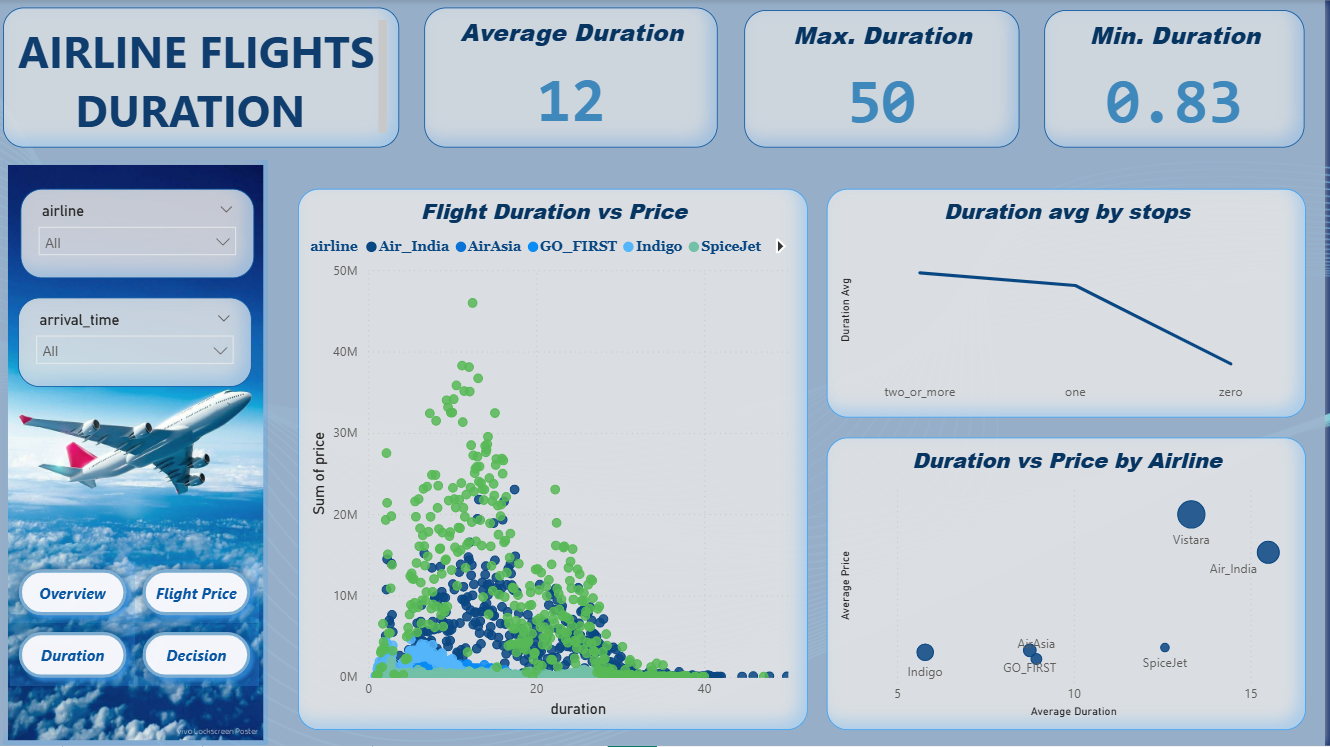

What the dashboard file says about the page in this screenshot:
{"tool":"powerbi","page":{"name":"Duration Analysis","canvas":[1280,720],"ordinal":2},"visuals":[{"type":"card","title":"Min. Duration","fields":{"Values":["Measures (2).Min Duration"]},"box":[1009.8,9.7,250.9,132.7],"z":0},{"type":"card","title":"Max. Duration","fields":{"Values":["Measures (2).Max Duration"]},"box":[720.2,9.7,265.4,132.7],"z":1000},{"type":"scatterChart","title":"Flight Duration vs Price","fields":{"X":["airlines_flights_data.duration"],"Y":["Sum(airlines_flights_data.price)"],"Series":["airlines_flights_data.airline"]},"box":[289.5,182.2,492.2,522.4],"z":2000},{"type":"scatterChart","title":"Duration vs Price by Airline","fields":{"X":["Measures (2).Average Flight Duration"],"Y":["Measures (2).Average Price"],"Size":["Measures (2).Total Flights"],"Category":["airlines_flights_data.airline"]},"box":[799.9,422.3,462.1,282.3],"z":3000},{"type":"card","title":"Average Duration","fields":{"Values":["Avg(airlines_flights_data.duration)"]},"box":[411.4,7.2,283.5,135.1],"z":4000},{"type":"textbox","box":[4.8,7.2,382.4,135.1],"z":5000},{"type":"image","box":[4.5,154.4,255.9,564.8],"z":6000},{"type":"slicer","fields":{"Values":["airlines_flights_data.airline"]},"box":[21.2,181.7,225.6,86.3],"z":7000},{"type":"slicer","fields":{"Values":["airlines_flights_data.arrival_time"]},"box":[19.7,287.7,225.6,86.3],"z":8000},{"type":"lineChart","title":"Duration avg by stops","fields":{"Category":["airlines_flights_data.stops"],"Y":["Avg(airlines_flights_data.duration)"]},"box":[799.9,182.2,462.1,220.8],"z":9000},{"type":"actionButton","box":[11.7,541.7,120,60],"z":10000},{"type":"actionButton","box":[131.7,541.7,120,60],"z":11000},{"type":"actionButton","box":[11.7,601.7,120,60],"z":12000},{"type":"actionButton","box":[131.7,601.7,120,60],"z":13000}]}

Visuals, with their boxes in screenshot pixels (x1, y1, x2, y2), scaled from the page's 1280x720 canvas onto the 1330x747 screenshot:
"Min. Duration" card: left=1049, top=10, right=1310, bottom=148
"Max. Duration" card: left=748, top=10, right=1024, bottom=148
"Flight Duration vs Price" scatterChart: left=301, top=189, right=812, bottom=731
"Duration vs Price by Airline" scatterChart: left=831, top=438, right=1311, bottom=731
"Average Duration" card: left=427, top=7, right=722, bottom=148
textbox: left=5, top=7, right=402, bottom=148
image: left=5, top=160, right=271, bottom=746
slicer - airlines_flights_data.airline: left=22, top=189, right=256, bottom=278
slicer - airlines_flights_data.arrival_time: left=20, top=298, right=255, bottom=388
"Duration avg by stops" lineChart: left=831, top=189, right=1311, bottom=418
actionButton: left=12, top=562, right=137, bottom=624
actionButton: left=137, top=562, right=262, bottom=624
actionButton: left=12, top=624, right=137, bottom=687
actionButton: left=137, top=624, right=262, bottom=687
